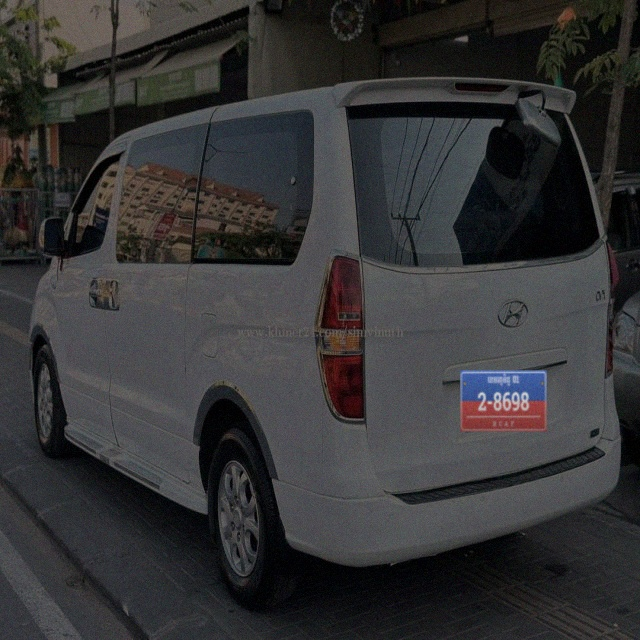Plate Number: (460, 371, 548, 432)
